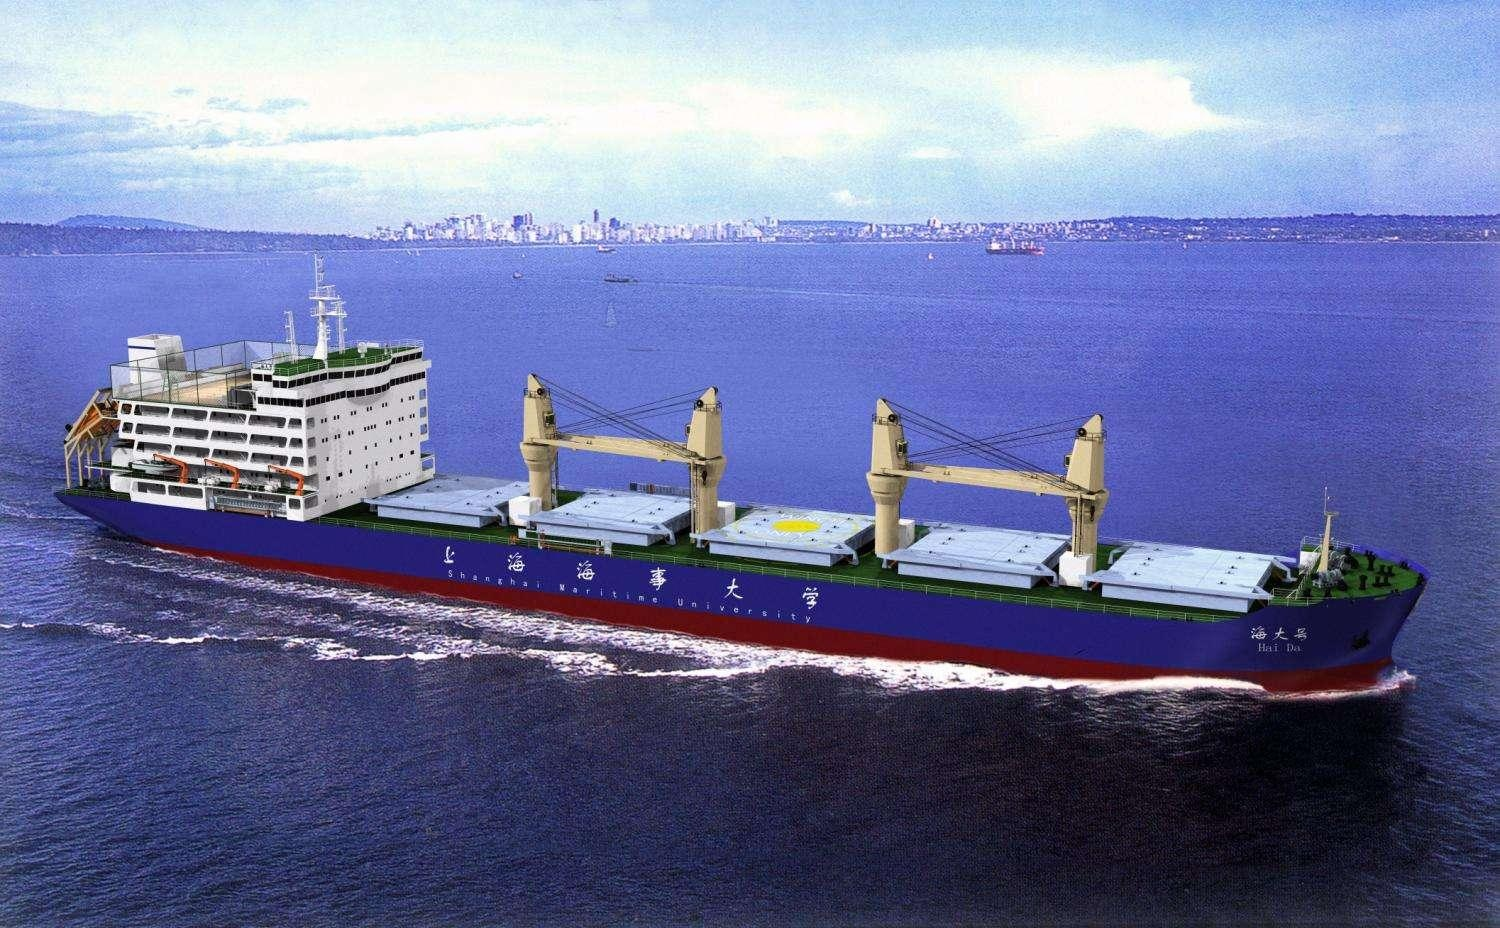Cargoship: (63, 259, 1426, 697)
